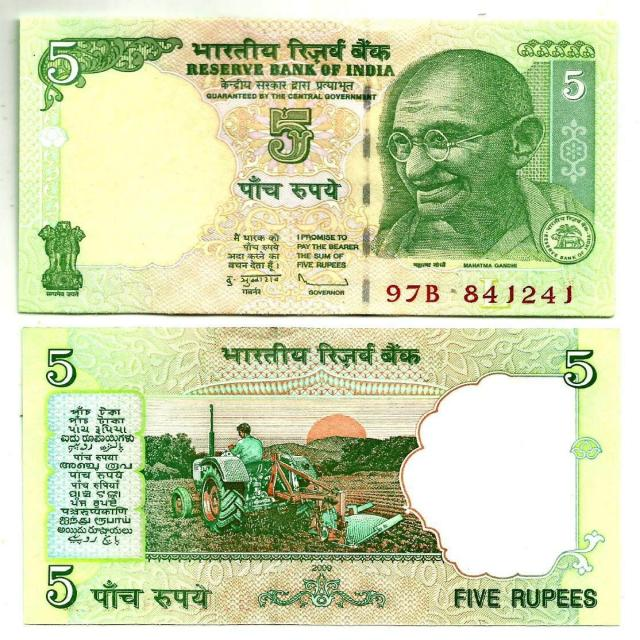5IndianRupees: (32, 322, 622, 622)
